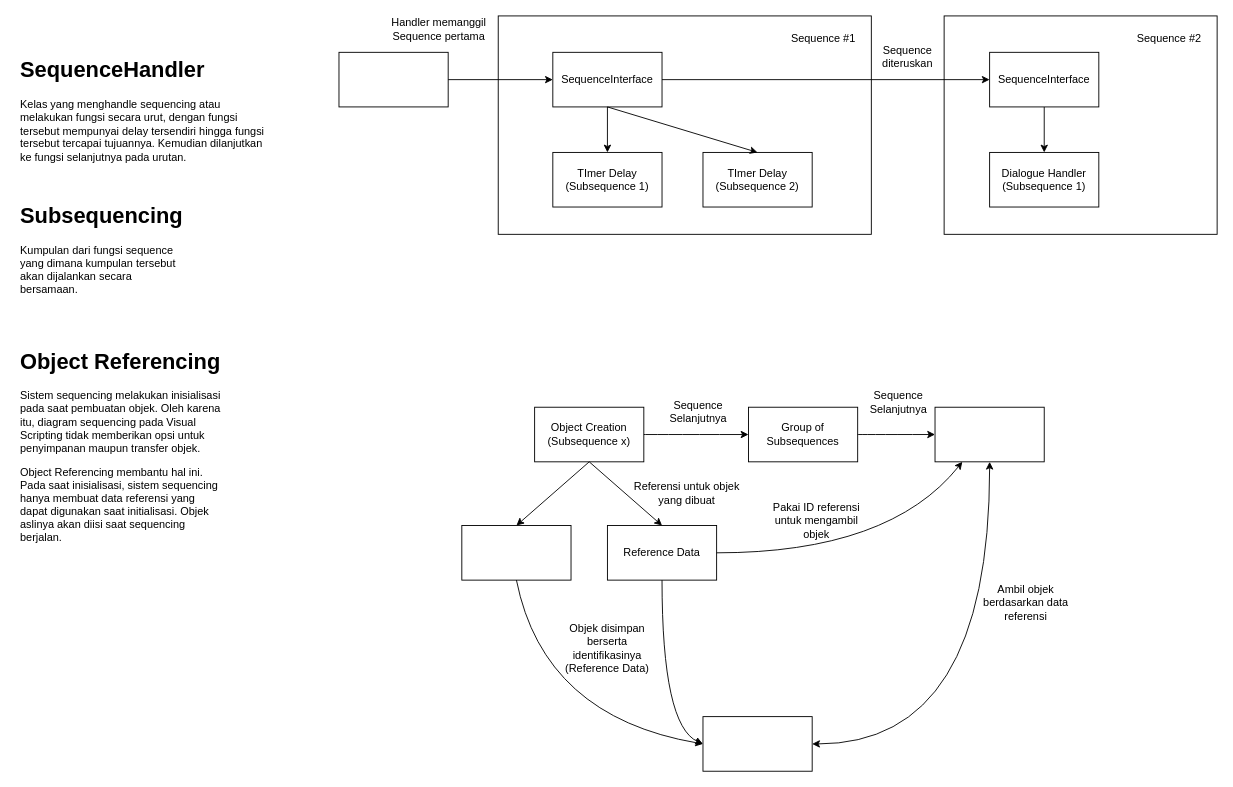
Some shapes in this 1233 by 787 pixel diagram are drawn without their labels. The shapes that lost their labels are listed below. From the top down, each one's centre as x and y in pixels, then its label:
pixel 393 79: SequenceHandler
pixel 989 434: Move Object To
pixel 516 552: Created Object
pixel 757 743: ObjectReference class
